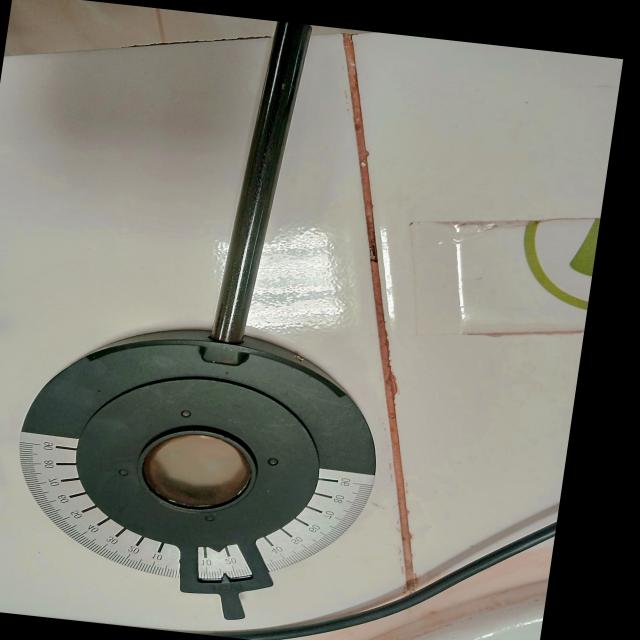Optical Polarizer: (0, 0, 459, 634)
